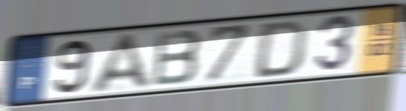3: (311, 12, 357, 76)
7: (207, 21, 255, 85)
9: (53, 39, 91, 95)
A: (87, 30, 155, 95)
B: (150, 28, 205, 89)
D: (250, 18, 311, 81)
